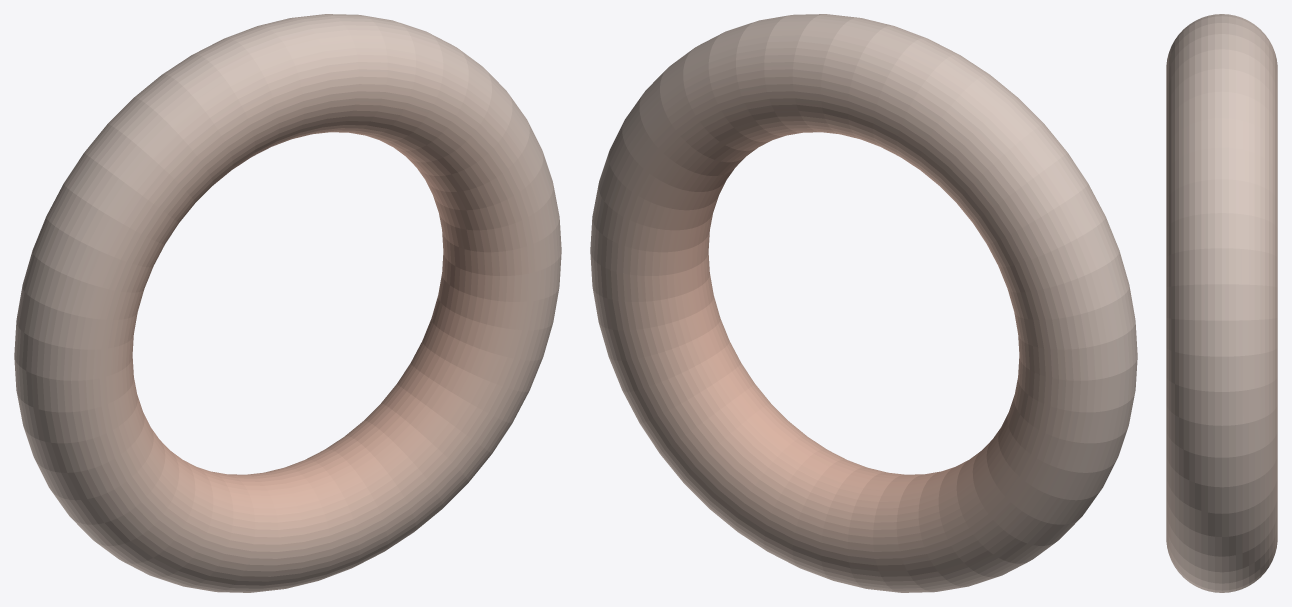
3 renders of one model, left to right at view 1: azimuth 30°, elevation 25°; view 2: azimuth 150°, elevation 25°; view 3: azimuth 270°, elevation 25°, orthographic. The views are drawn at different scales.
Visible parts, largest first — view 1: world; view 2: world; view 3: world.
Part boxes in pixels (bbox=[...]): world: bbox=[14, 14, 561, 592]; world: bbox=[590, 14, 1137, 592]; world: bbox=[1166, 14, 1277, 592].
Size of the model in its own units: 29.73 by 29.67 by 5.72.
